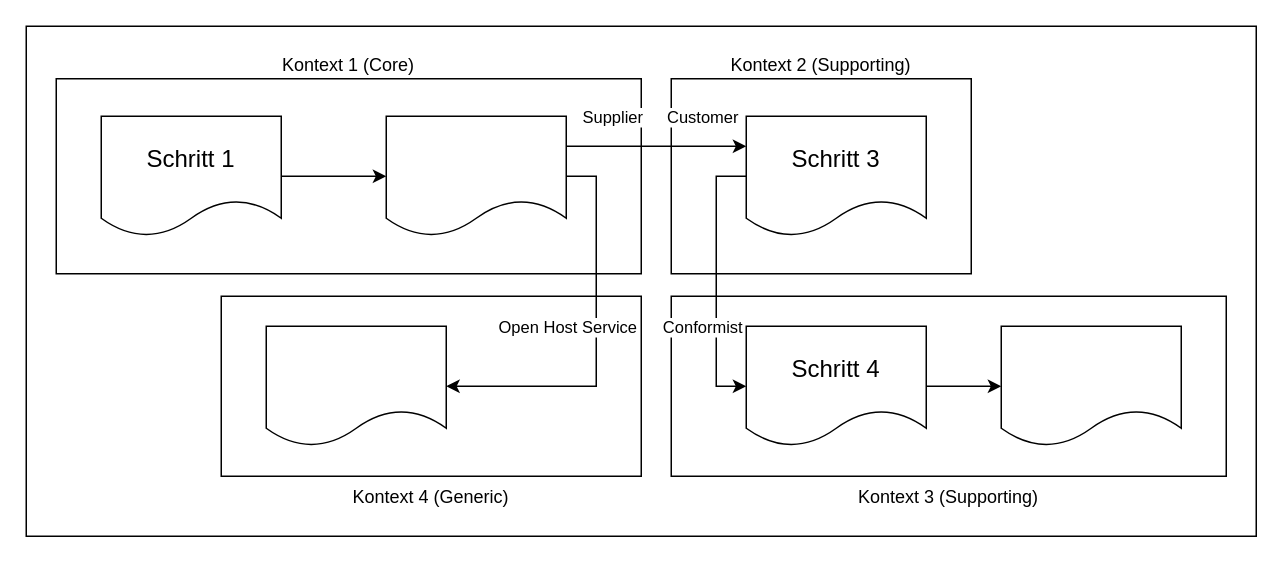
This 1283x563 diagram has some shape labels left out. Here are the shapes that lost their labels. From the top down, the box of each, then its label:
(385, 115, 566, 236): Schritt 2
(265, 325, 446, 446): Schritt 6
(1000, 325, 1181, 446): Schritt 5
